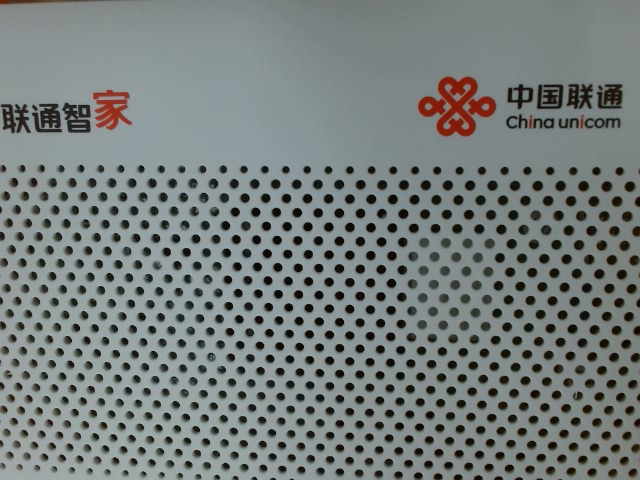AD_ChinaUnicom: (393, 41, 630, 143)
